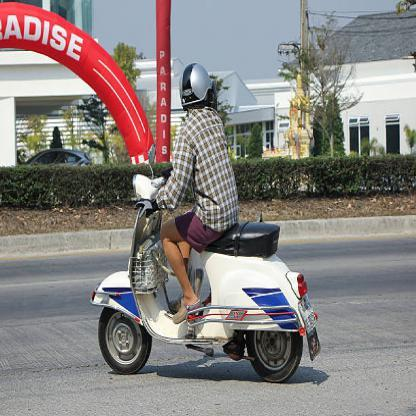Motorcycle: (89, 159, 322, 387)
